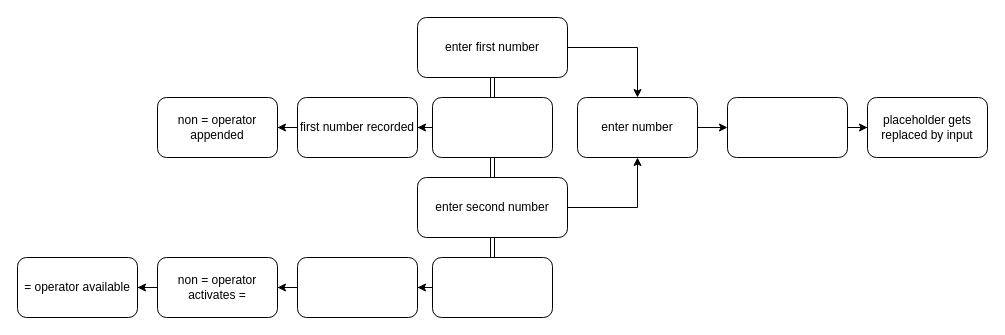
This 1005x335 diagram has some shape labels left out. Each missing label, with the centre of its shape:
else 0 placeholder: the point at 787,127
enter first operator: the point at 492,127
enter second operator: the point at 492,287
second number recorded: the point at 357,287
